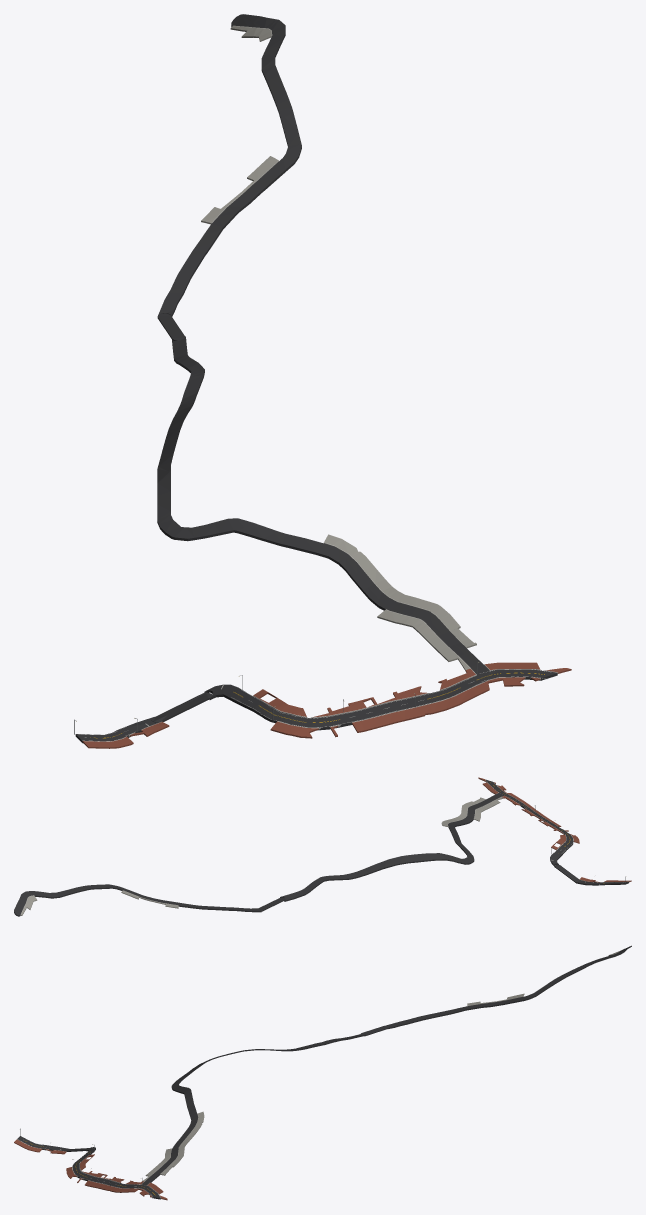
The picture shows the model from 3 angles, top to bottom: view 1: azimuth 30°, elevation 25°; view 2: azimuth 150°, elevation 25°; view 3: azimuth 330°, elevation 25°; orthographic projection. The views are drawn at different scales.
Bounding box in the file's own units: 368 × 94.43 × 572.
